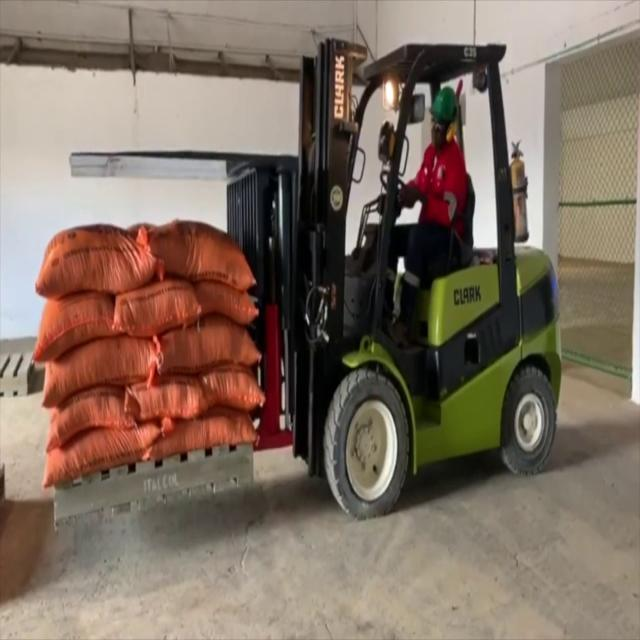forklift: (279, 24, 567, 538)
